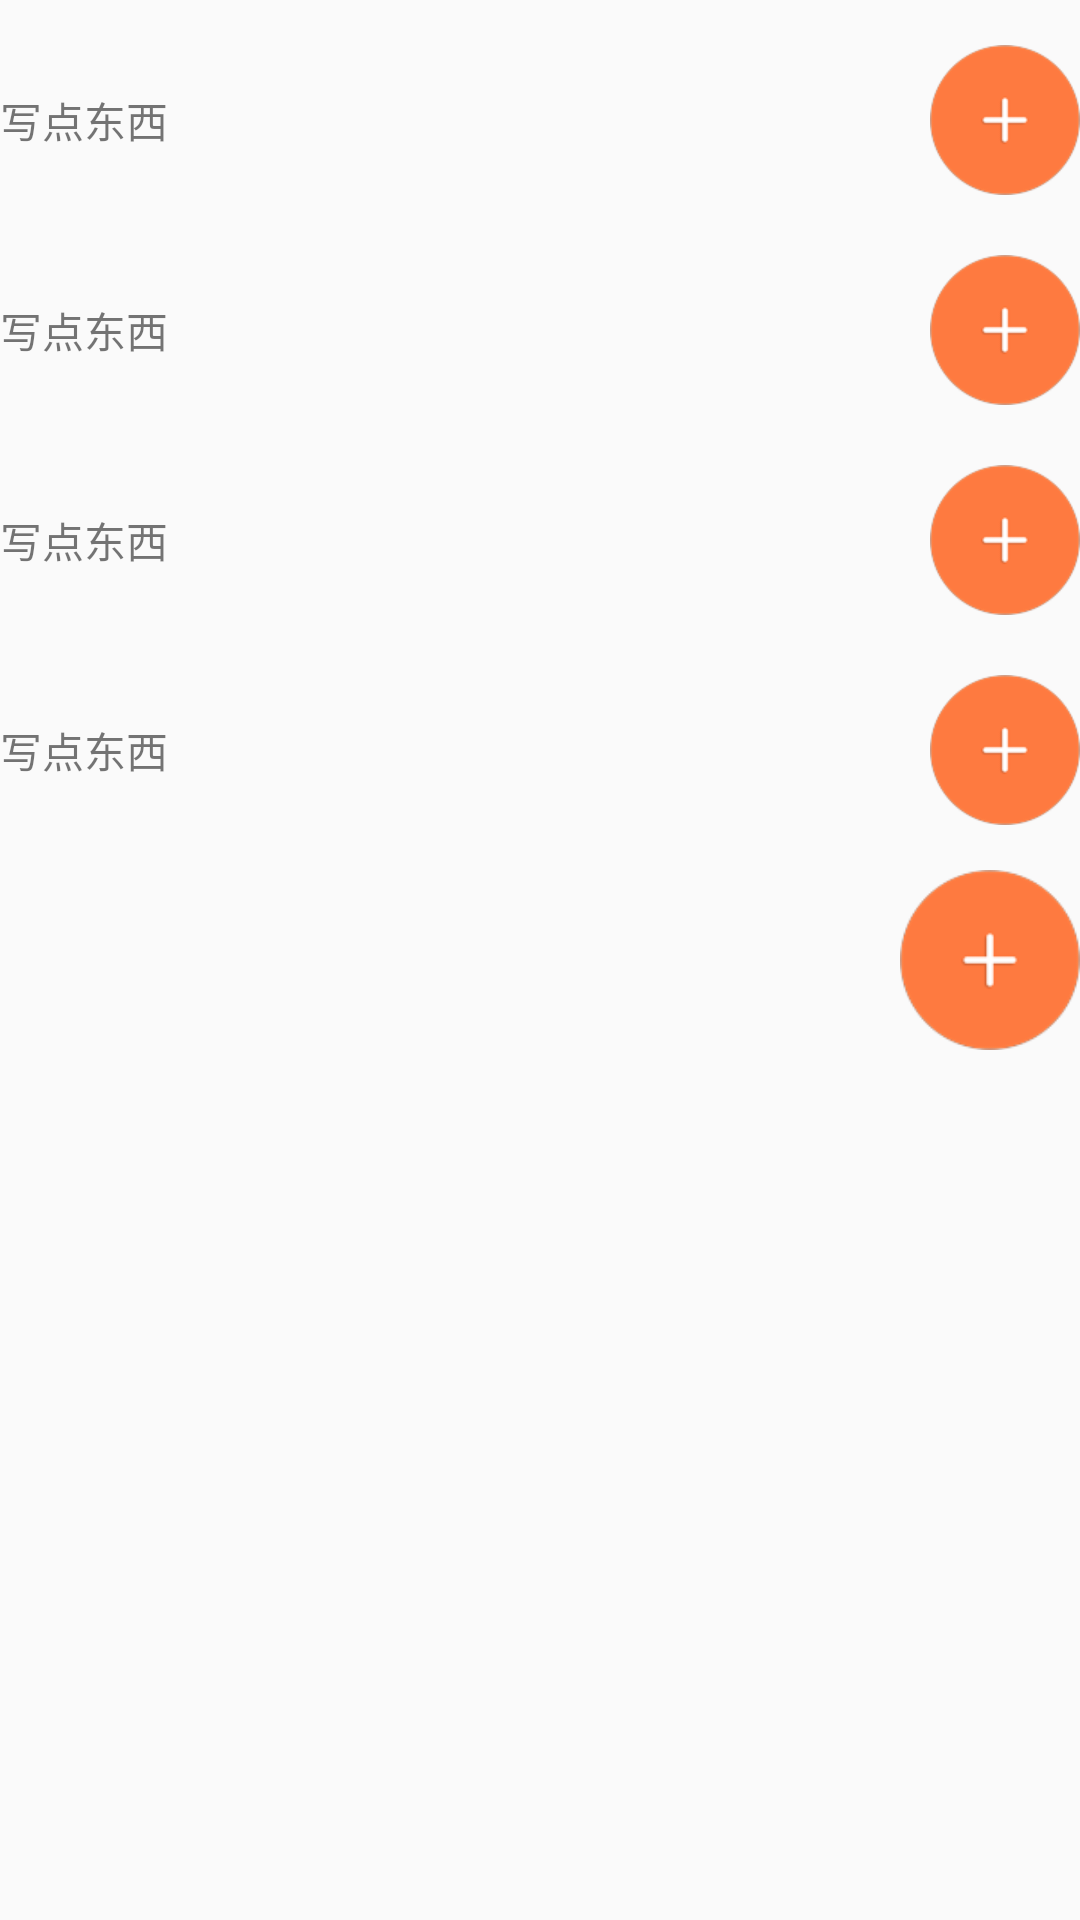

Screen size 1080×1920. Icon name, then its box in pixels as (x1=x1, y1=y1, x2=x2, y2=y2):
circlemain: (x1=930, y1=45, x2=1080, y2=195), (x1=930, y1=255, x2=1080, y2=405), (x1=930, y1=465, x2=1080, y2=615), (x1=930, y1=675, x2=1080, y2=825), (x1=900, y1=870, x2=1080, y2=1050)
